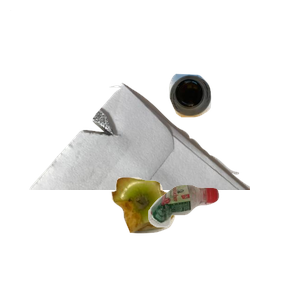glass: (166, 71, 300, 181)
paper: (10, 10, 250, 190)
plastic: (146, 182, 300, 300)
trash: (109, 175, 279, 300)
